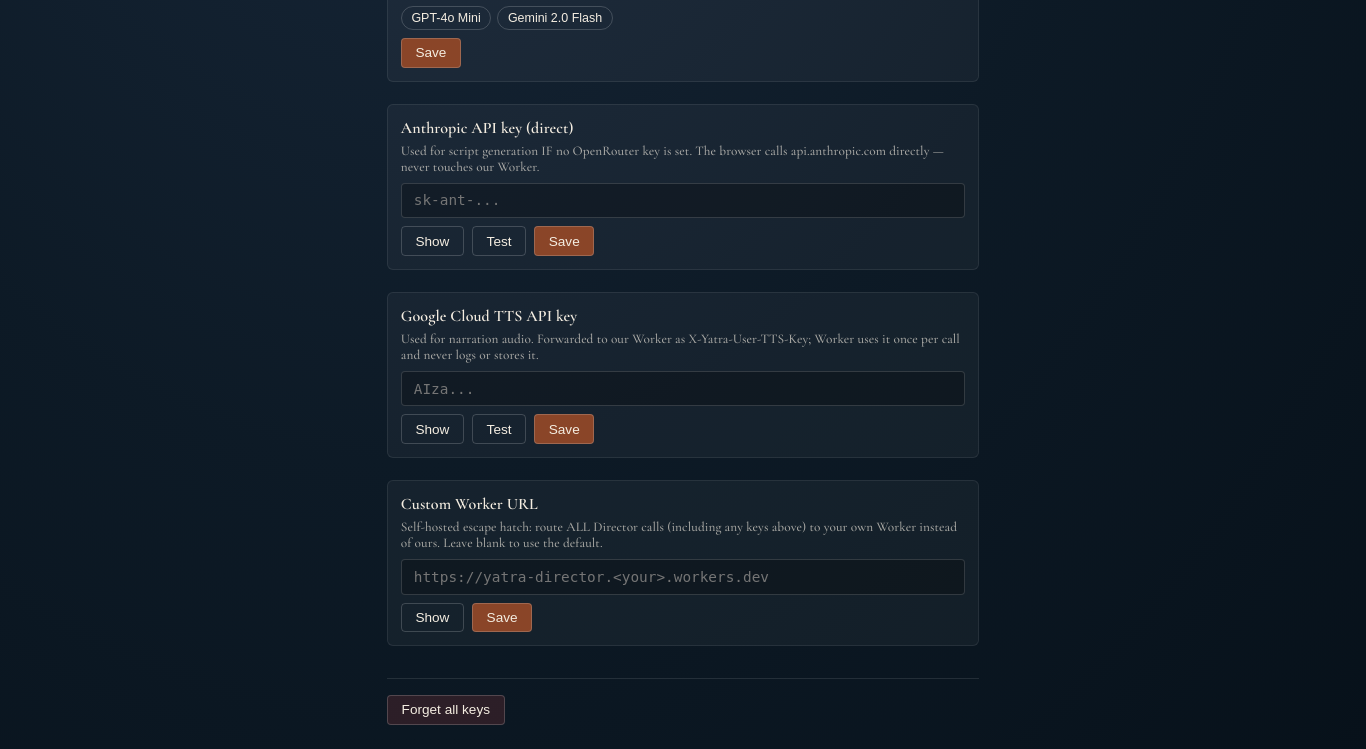
SettingsView › Worker URL save opens type-to-confirm modal
(page scrolled)
Type "https://my.worker" into the password field with placeholder "https://yatra-director.<your>.workers.dev".
click(683, 577); type("https://my.worker")  # box [401,559,965,594]
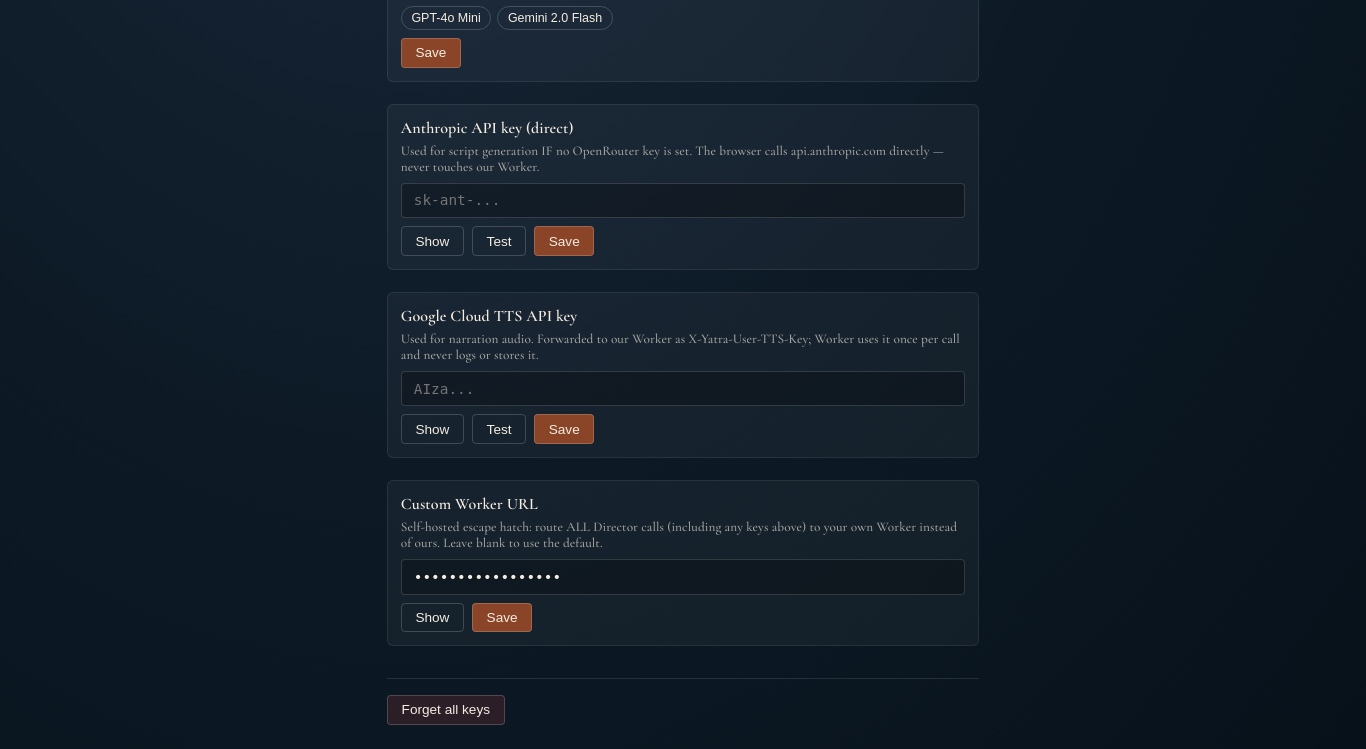
Click the button "Save" below "Custom Worker URL".
click(502, 617)  # box [472,602,532,632]
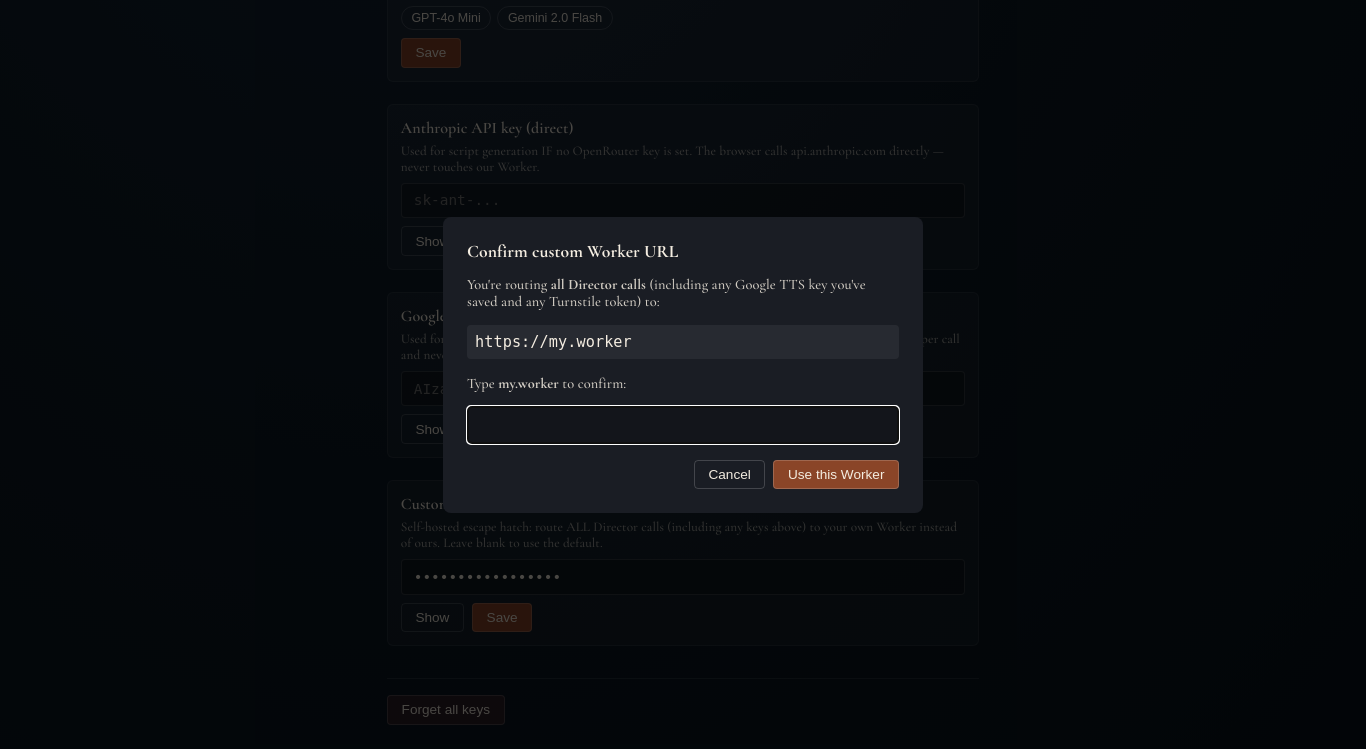
Expected: the heading "Confirm custom Worker URL" is shown, [467,241,678,262]
Expected: the text "my.worker" is shown, [498,375,559,392]
